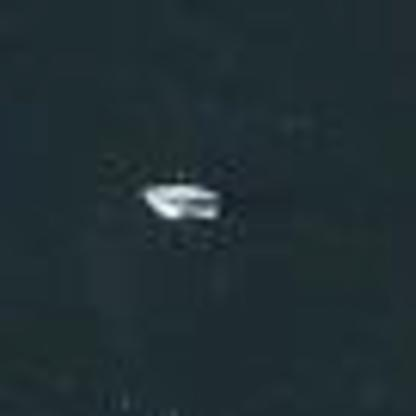ship: (130, 174, 231, 228)
